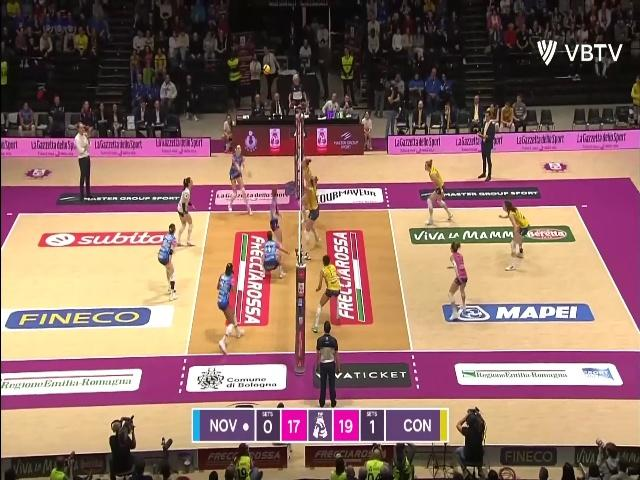volleyball court: (1, 206, 638, 360)
